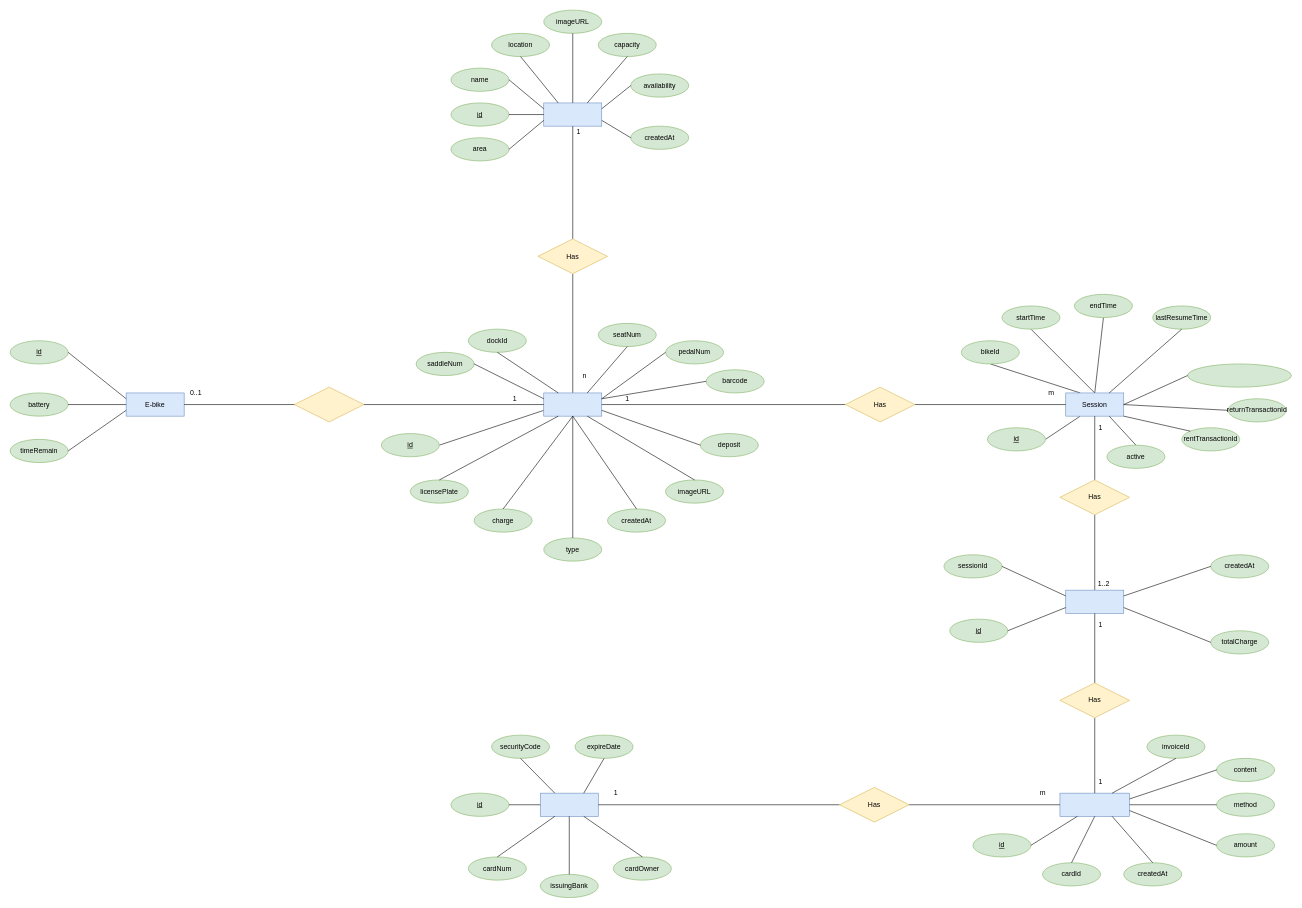
This 1302x908 diagram has some shape labels left out. The shapes that lost their labels are listed below. From the top down, each one's centre as x and y in pixels, then its label:
At (x=572, y=114): "Dock".
At (x=1239, y=375): "lastRentTimeBeforeLock".
At (x=329, y=404): "Is_a".
At (x=572, y=404): "Bike".
At (x=1094, y=601): "Invoice".
At (x=569, y=804): "CreditCard".
At (x=1094, y=804): "PaymentTransaction".
